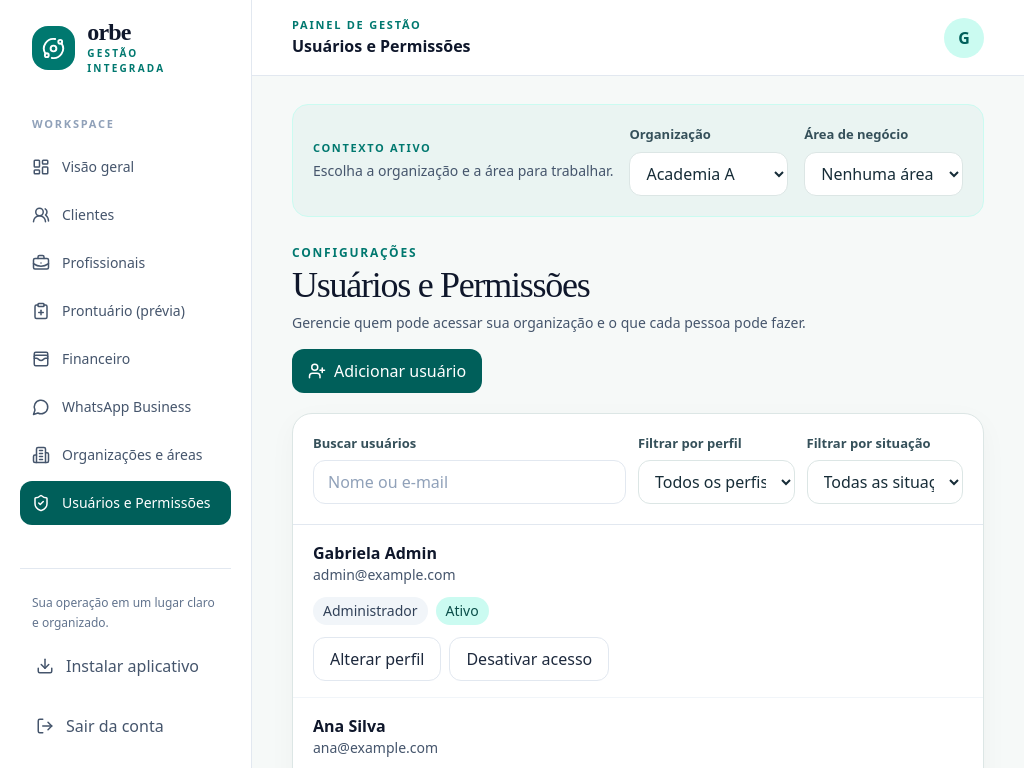
Scenario: Usuários e Permissões › remove acesso local ao confirmar a alteração do próprio perfil
Click the button with aria-label "Alterar perfil de Gabriela Admin" at (377, 659), box 313,637 -> 441,681
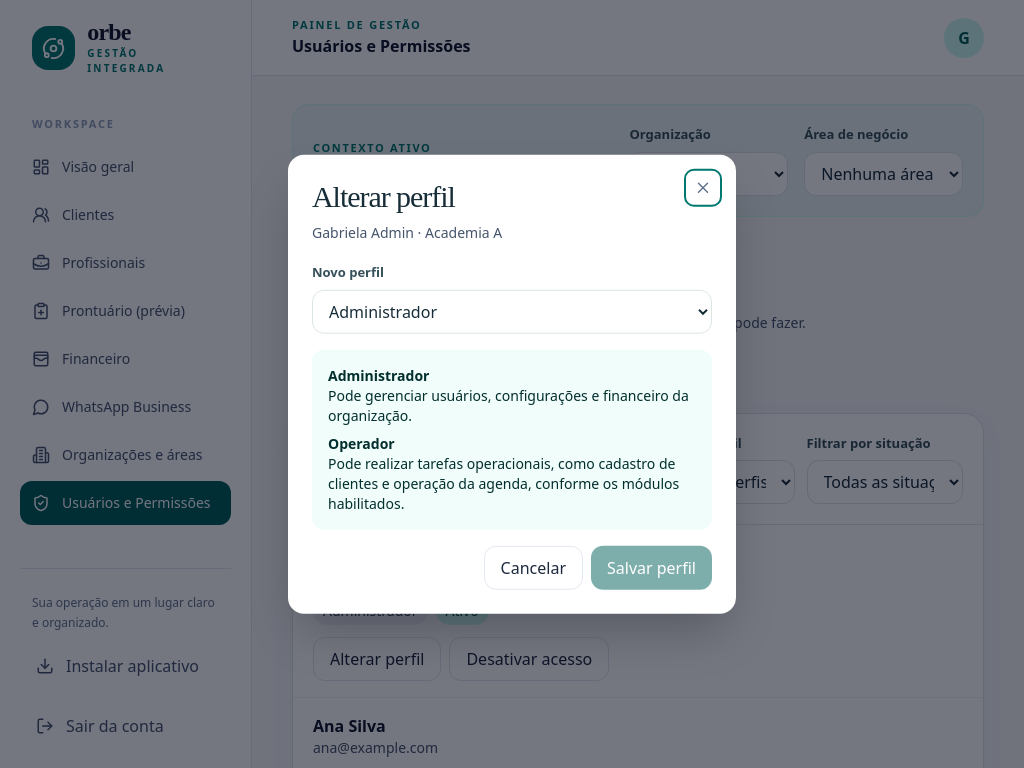
Select "Operador" in the dropdown labelled "Novo perfil" at (512, 311), box 312,289 -> 712,333
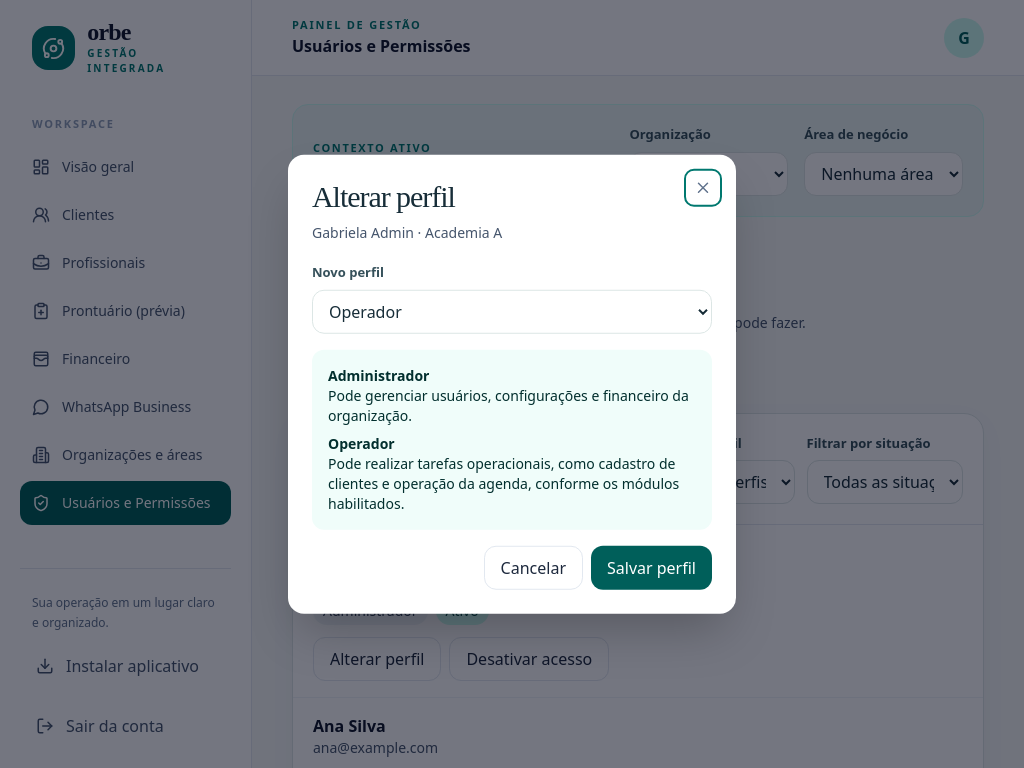
Click the button "Salvar perfil" at (652, 567), box 591,545 -> 712,589
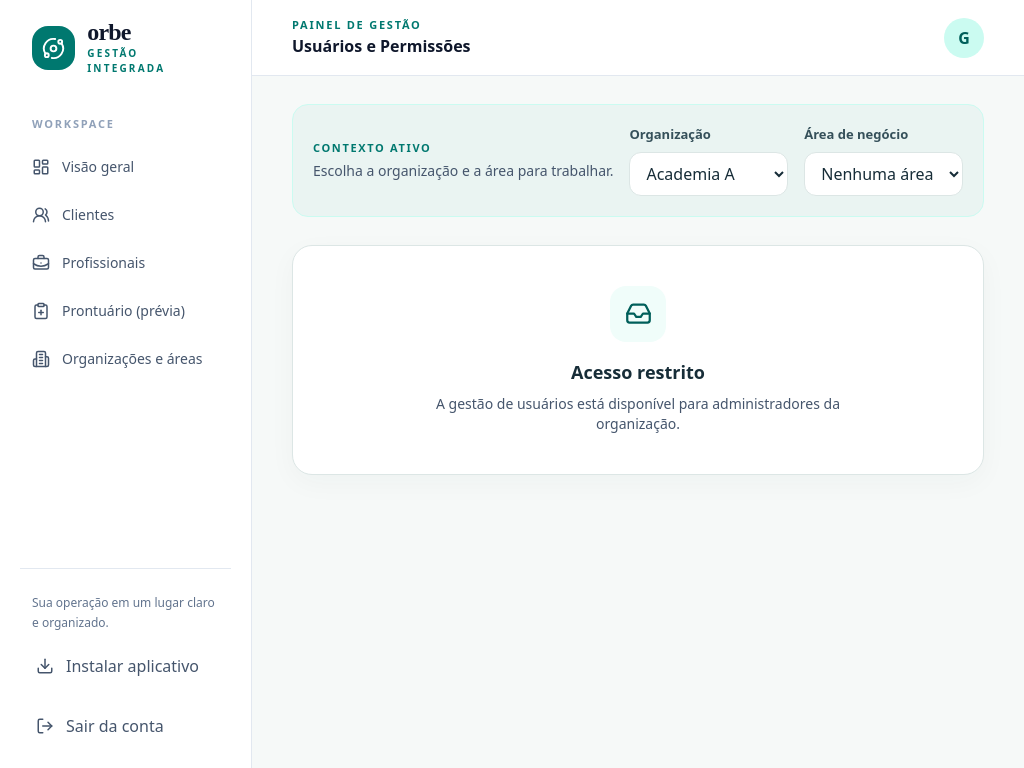
Expected: the heading "Acesso restrito" is shown, 571,358 -> 705,386
